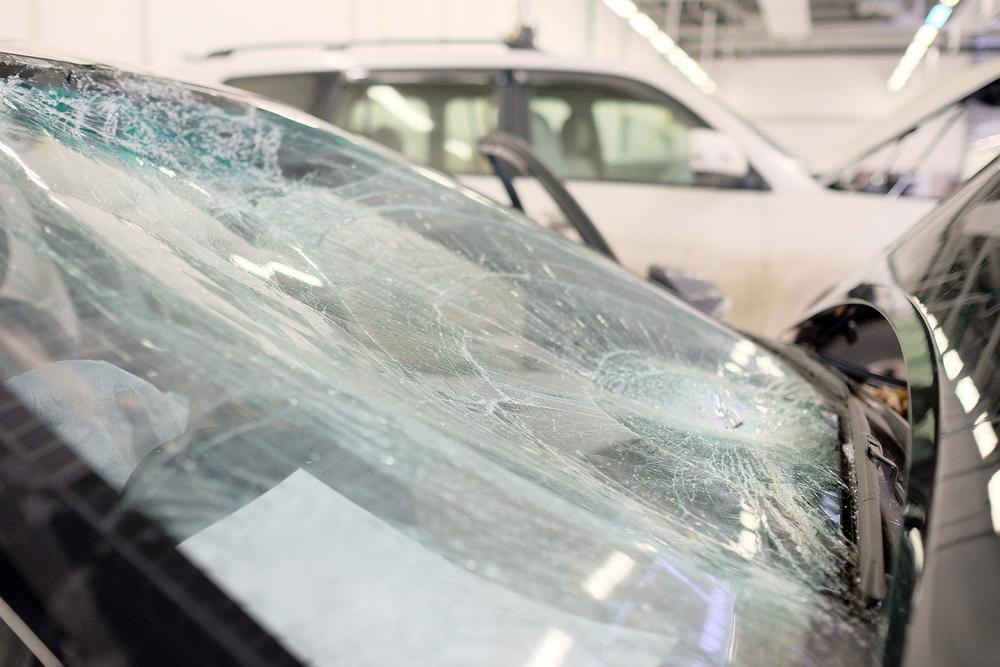glass shatter: (0, 52, 861, 667)
